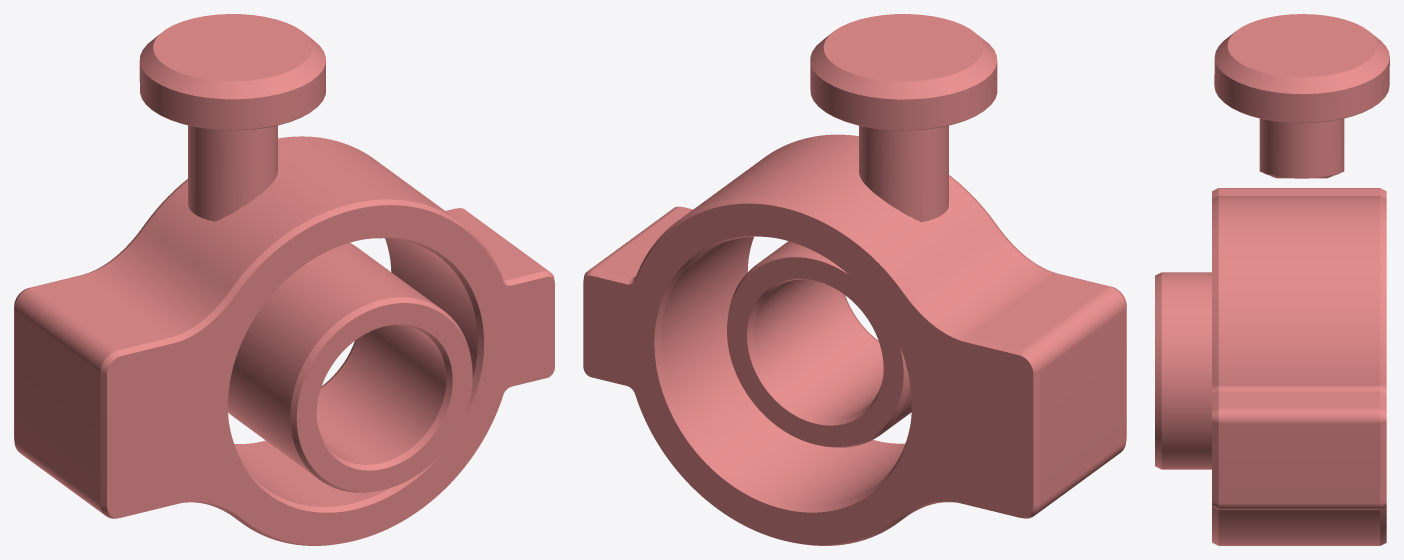
The model's file is TimelineElement_GimbalAttitude.dae.
3 renders of one model, left to right at view 1: azimuth 30°, elevation 25°; view 2: azimuth 150°, elevation 25°; view 3: azimuth 270°, elevation 25°, orthographic. The views are drawn at different scales.
Visible parts, largest first — view 1: gimbal_attitude_2x; view 2: gimbal_attitude_2x; view 3: gimbal_attitude_2x.
Part boxes in pixels (box(x1,y1,x2,y2)): gimbal_attitude_2x: box(14, 14, 554, 545); gimbal_attitude_2x: box(583, 14, 1126, 545); gimbal_attitude_2x: box(1155, 14, 1389, 545).
Bounding box in the file's own units: 0.7617 × 0.3633 × 0.7684.
